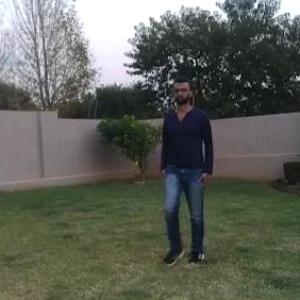follow: (160, 80, 210, 249)
